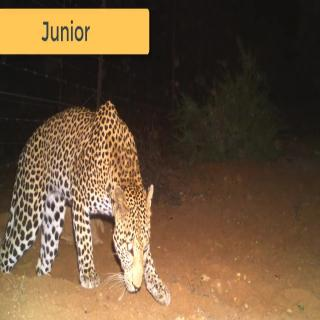Leopard: (0, 101, 171, 308)
